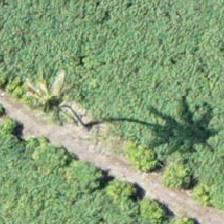coconut_tree: (0, 48, 78, 138)
